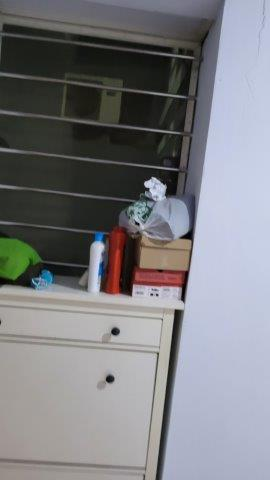kertas: (140, 171, 167, 199)
plastik: (119, 203, 202, 237)
